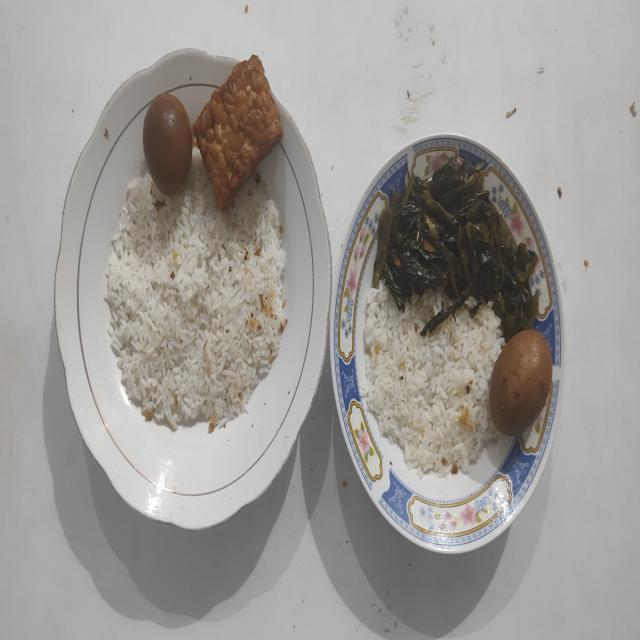nasi_putih: (105, 148, 286, 432), (360, 288, 503, 477)
tempe_goreng: (194, 56, 284, 210)
tumis_kangkung: (375, 158, 538, 342)
